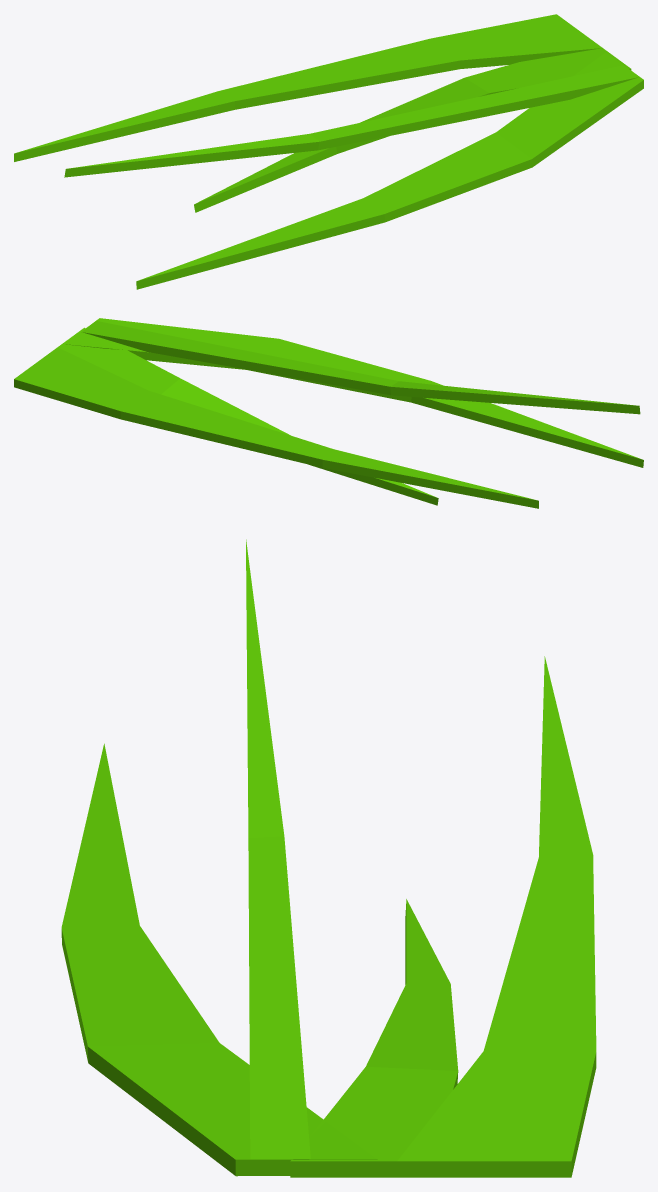
File: grassobj0.fbx
The picture shows the model from 3 angles, top to bottom: view 1: azimuth 30°, elevation 25°; view 2: azimuth 150°, elevation 25°; view 3: azimuth 270°, elevation 25°; orthographic projection. The views are drawn at different scales.
Parts seen in each view (by area): view 1: grass2; view 2: grass2; view 3: grass2.
Boxes of the visible parts, bbox=[...] form: grass2: bbox=[14, 14, 643, 289]; grass2: bbox=[14, 318, 643, 508]; grass2: bbox=[61, 539, 596, 1177].
Size of the model in its own units: 0.3403 by 0.0658 by 0.1445.
